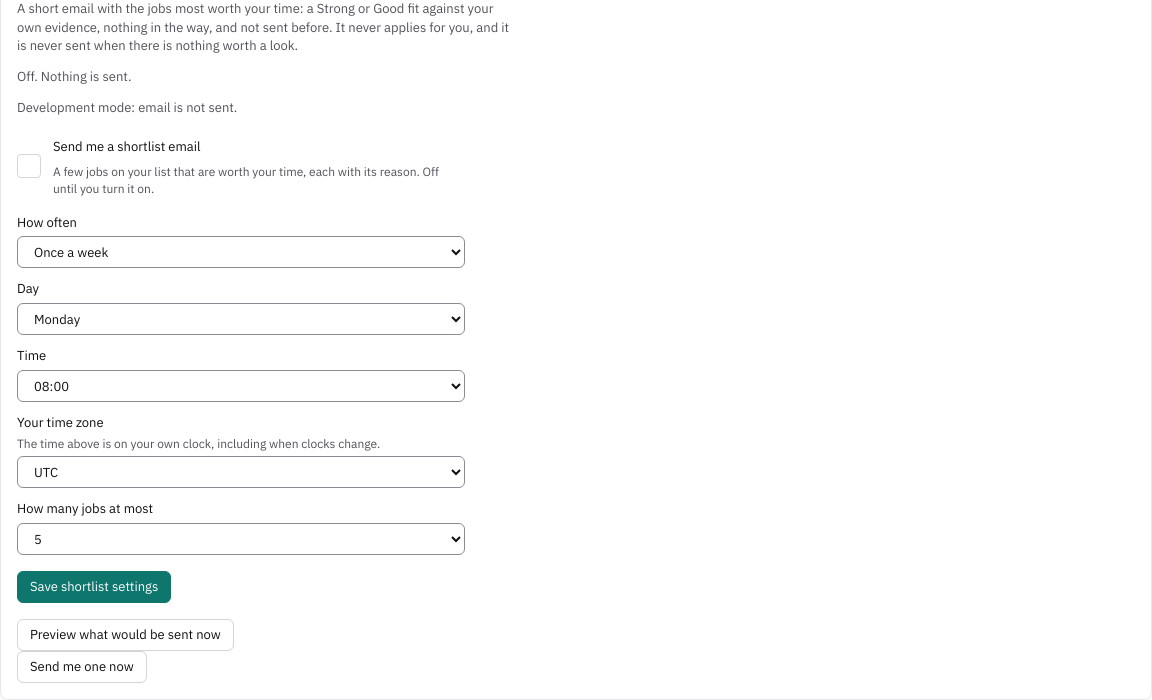
ShortlistSection › queues one now and says what will happen
(page scrolled)
Click the button "Send me one now": coordinates (82, 667) [17,651,147,683]
(page scrolled)
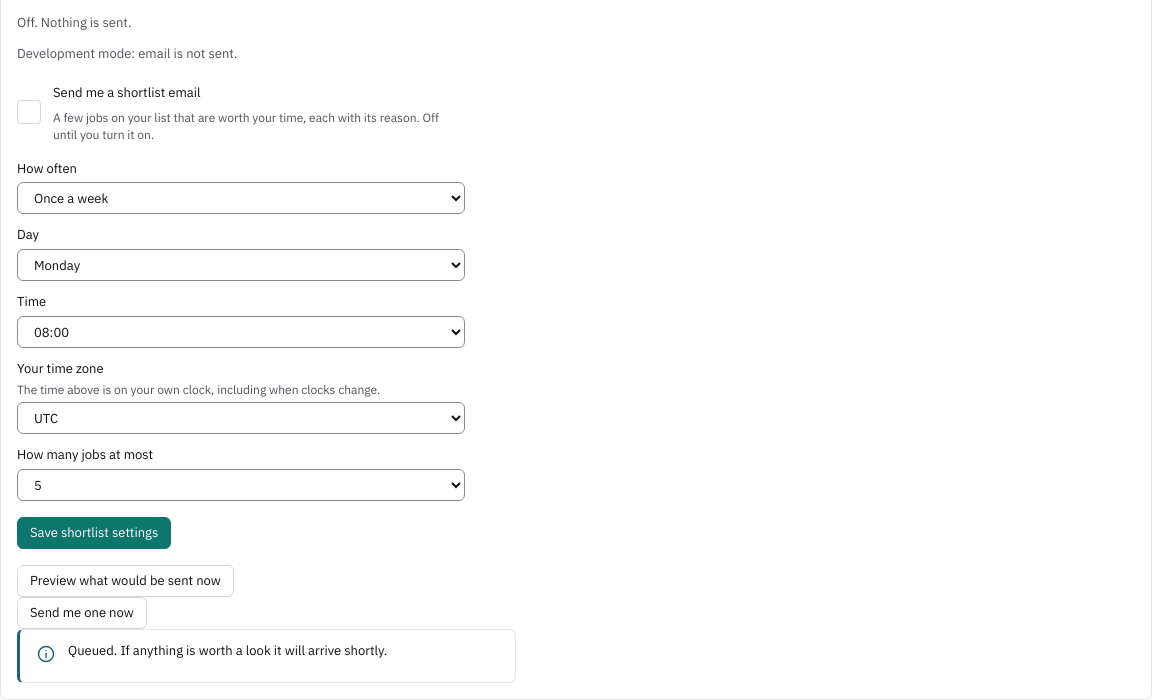
Check: the text "Queued. If anything is worth a look it will arrive shortly." is shown, box [68,642,387,659]
